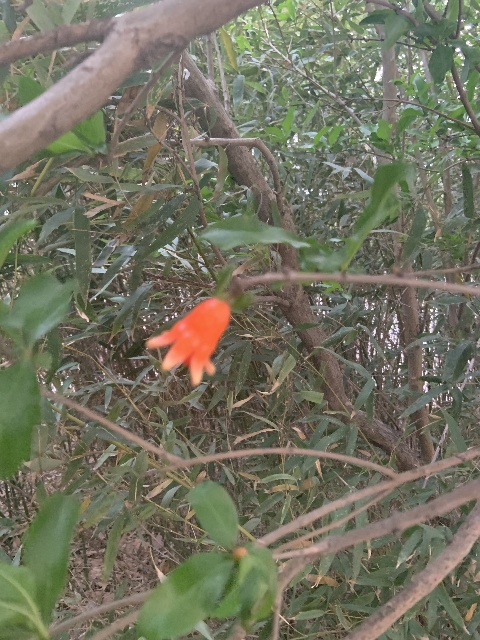flower: (145, 297, 230, 386)
